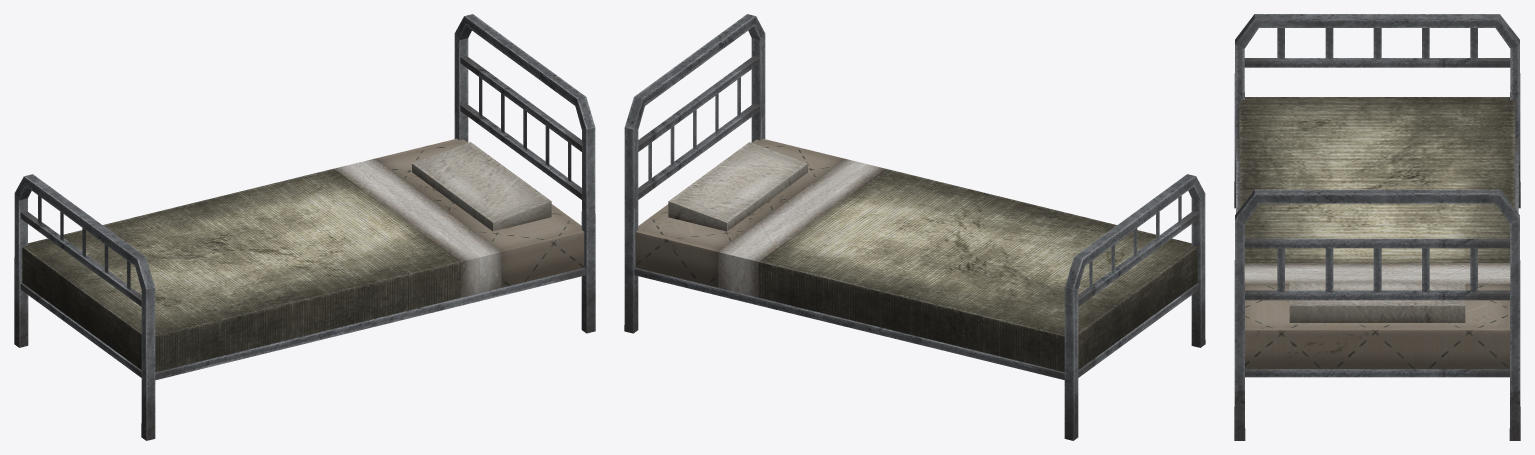
The model's file is Bed_1.fbx.
3 renders of one model, left to right at view 1: azimuth 30°, elevation 25°; view 2: azimuth 150°, elevation 25°; view 3: azimuth 270°, elevation 25°, orthographic. The views are drawn at different scales.
Parts seen in each view (by area): view 1: Bed_1; view 2: Bed_1; view 3: Bed_1.
Boxes of the visible parts, x1=… form: Bed_1: x1=14, y1=14, x2=595, y2=440; Bed_1: x1=624, y1=14, x2=1205, y2=440; Bed_1: x1=1234, y1=14, x2=1520, y2=440.
Size of the model in its own units: 204 by 98.6 by 104.
